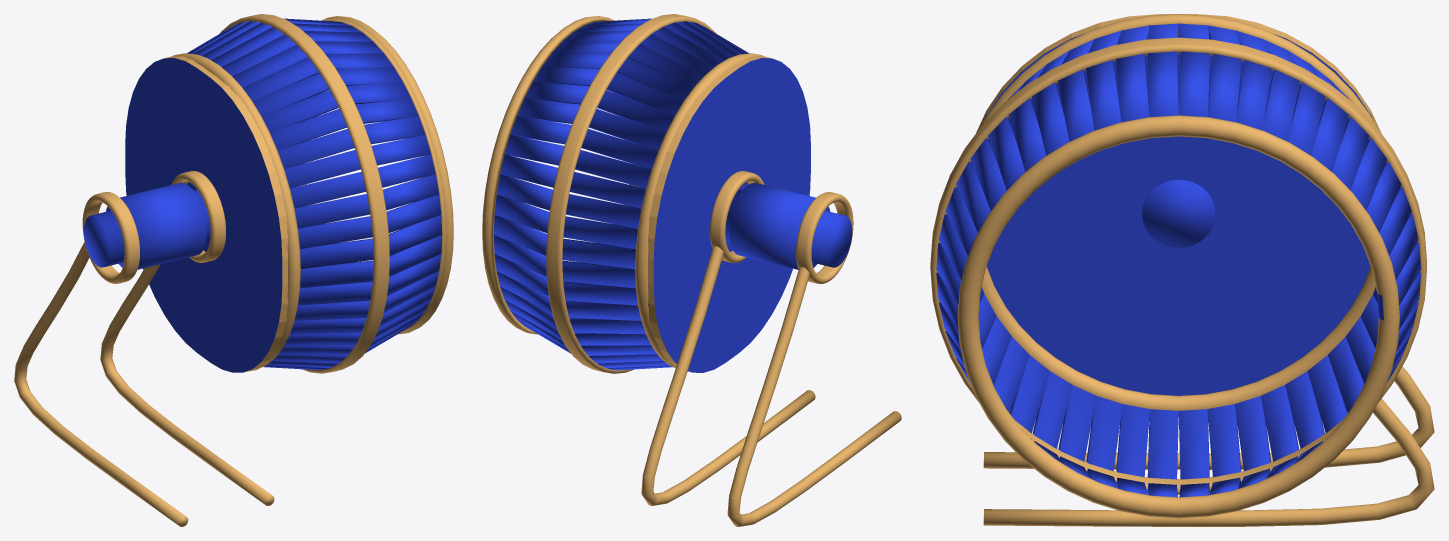
Rendered from hamster_wheel_2.glb.
3 views of the same model, side by side, from view 1: azimuth 30°, elevation 25°; view 2: azimuth 150°, elevation 25°; view 3: azimuth 270°, elevation 25° (orthographic). The views are drawn at different scales.
Visible parts, largest first — view 1: BezierCircle, BezierCircle.002, Cylinder; view 2: BezierCircle, BezierCircle.002, Cylinder; view 3: BezierCircle, BezierCircle.002, Cylinder.
Part boxes in pixels (x1,y1,x2,y2): BezierCircle: (125,14,453,373); BezierCircle.002: (14,171,274,526); Cylinder: (83,182,210,269); BezierCircle: (482,14,810,373); BezierCircle.002: (641,171,901,526); Cylinder: (725,183,852,269); BezierCircle: (930,14,1426,518); BezierCircle.002: (983,366,1434,526); Cylinder: (1142,179,1215,247).
Size of the model in its own units: 1.06 by 1.46 by 1.22.
